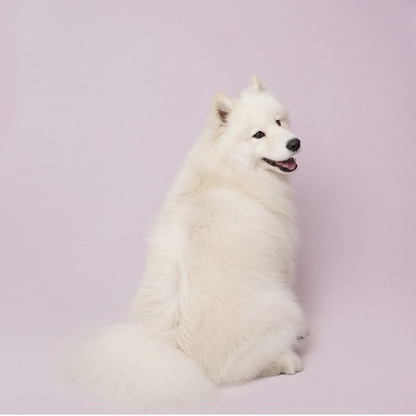samoyed: (60, 66, 318, 416)
